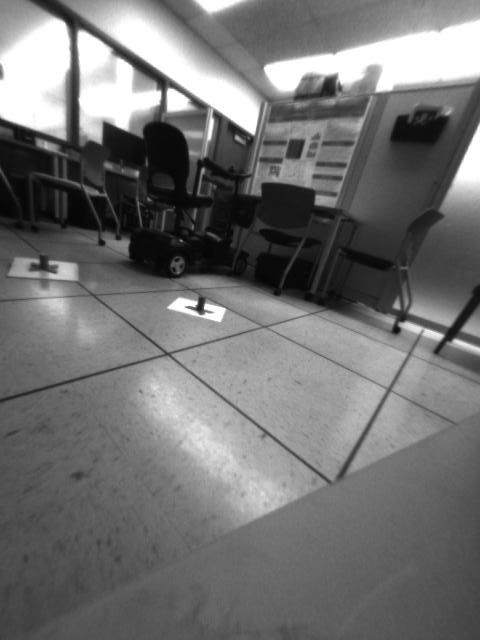X: (26, 254, 61, 275), (183, 294, 214, 316)
